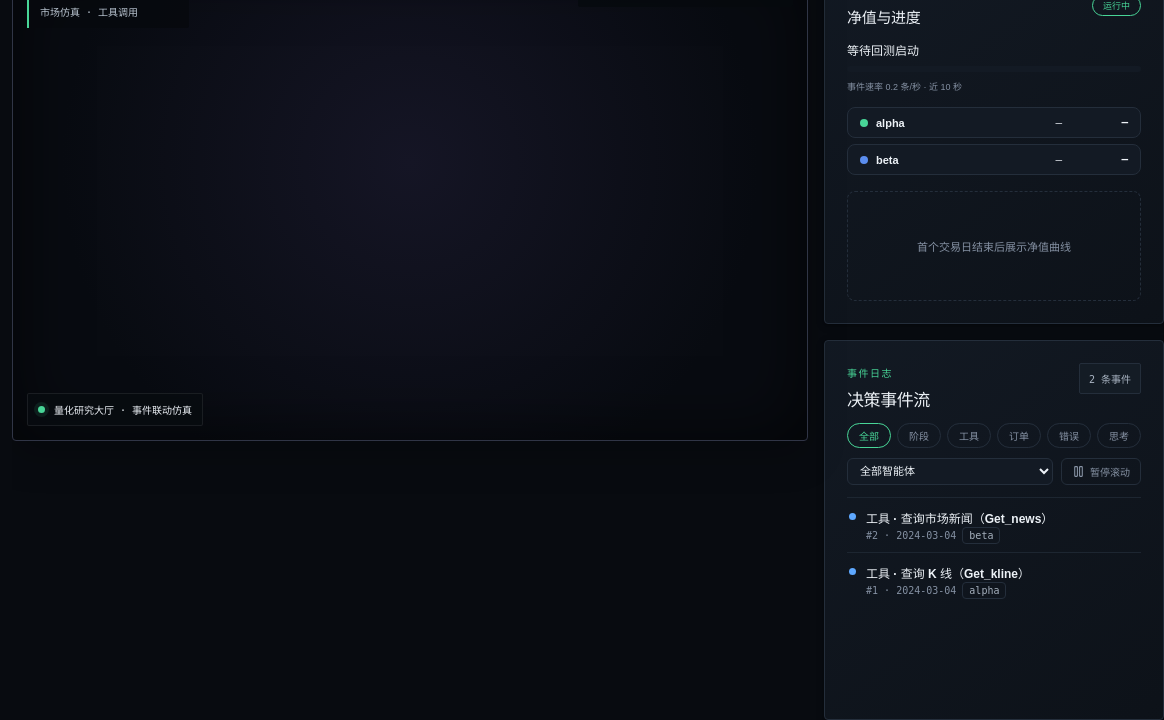
LiveRun › filters the event log by agent via the dropdown
(page scrolled)
Expected: the text "工具 · 查询 K 线（get_kline）" is shown, [866,564,1030,581]
Expected: the text "工具 · 查询市场新闻（get_news）" is shown, [866,509,1053,526]
Select "beta" in the dropdown named "按智能体过滤". click: {"x": 950, "y": 472}
box: [847,458,1053,485]
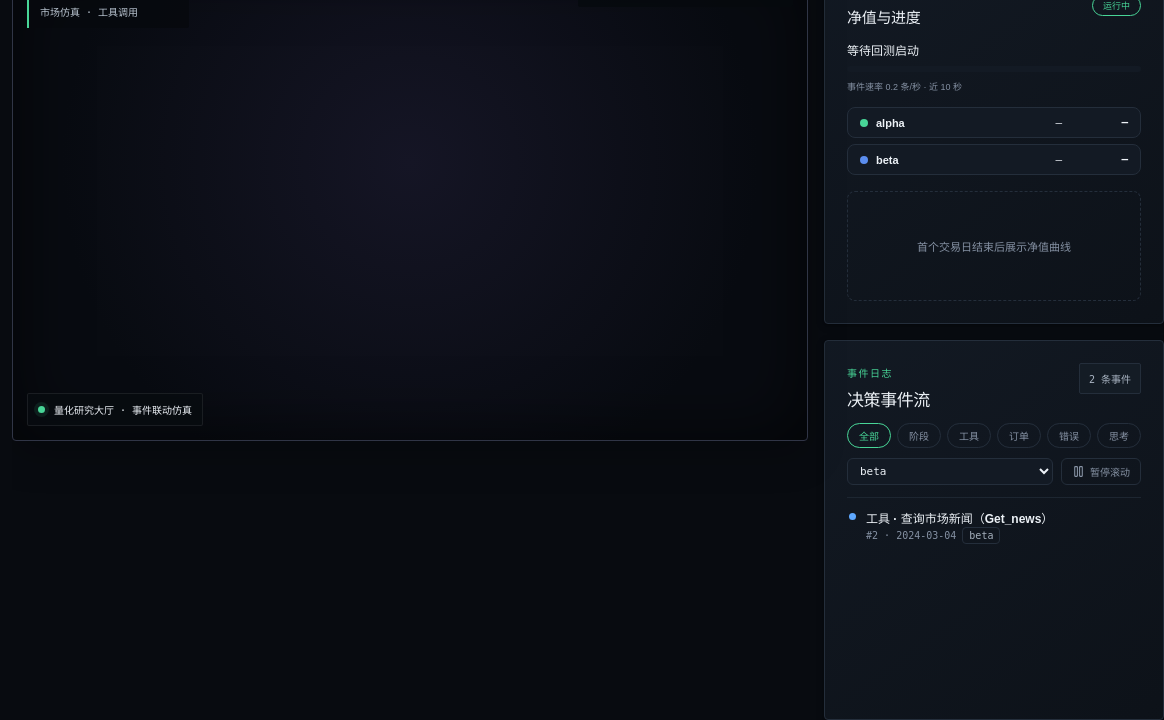
Expected: the text "工具 · 查询市场新闻（get_news）" is shown, [866,509,1053,526]
Now the text "get_kline" is gone
